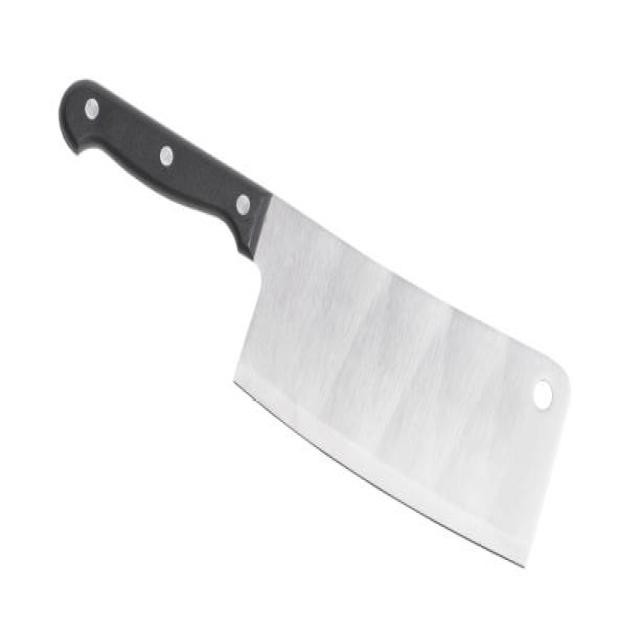knife: (57, 62, 580, 593)
